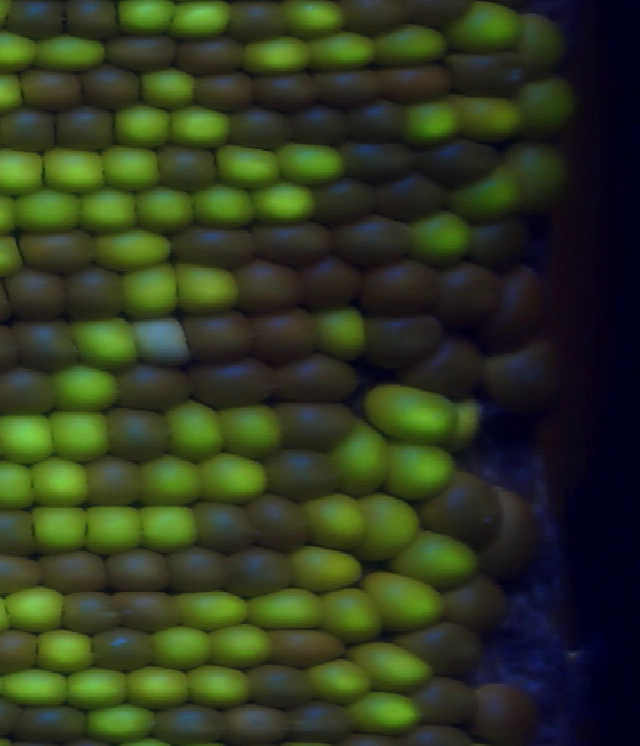fluorescent: (363, 383, 461, 444), (393, 531, 478, 587), (366, 570, 444, 630), (386, 440, 454, 499), (337, 420, 387, 493), (362, 494, 418, 558), (168, 401, 225, 463), (198, 452, 268, 502), (452, 164, 518, 217), (73, 319, 138, 372), (219, 404, 280, 459), (358, 642, 430, 688), (317, 588, 379, 641), (303, 496, 365, 549), (251, 588, 323, 632), (91, 232, 174, 270), (293, 545, 363, 589), (17, 187, 83, 233), (142, 452, 198, 506), (43, 146, 107, 193), (510, 146, 564, 201), (177, 591, 253, 630), (134, 187, 194, 236), (414, 212, 470, 264), (460, 98, 526, 142), (83, 506, 143, 554), (143, 504, 198, 556), (0, 417, 53, 470), (186, 664, 248, 709), (176, 263, 235, 310), (214, 144, 283, 184), (520, 78, 573, 130), (114, 104, 175, 149), (457, 4, 518, 49), (78, 187, 135, 235), (210, 624, 272, 667), (374, 26, 448, 62), (121, 265, 174, 315), (138, 317, 192, 365), (318, 307, 365, 362), (56, 368, 116, 411), (153, 625, 213, 668), (274, 142, 338, 182), (35, 505, 88, 553), (53, 411, 102, 462), (37, 459, 89, 507), (522, 14, 565, 72), (310, 659, 365, 704), (194, 185, 254, 226), (128, 667, 186, 709), (241, 38, 310, 73), (0, 147, 49, 195), (70, 666, 127, 707), (351, 692, 417, 727), (309, 32, 373, 68), (254, 181, 316, 218), (143, 66, 196, 109), (8, 590, 61, 633), (39, 629, 92, 672), (37, 36, 104, 70), (407, 102, 460, 144), (172, 1, 236, 35), (1, 670, 69, 701), (118, 2, 175, 37), (90, 706, 153, 737), (294, 2, 345, 37), (0, 462, 37, 507), (0, 33, 38, 72), (175, 105, 206, 147)
nonfluorescent: (420, 473, 502, 542), (476, 487, 532, 583), (364, 310, 451, 367), (401, 343, 488, 398), (358, 262, 442, 318), (485, 341, 552, 405), (188, 358, 274, 407), (495, 274, 548, 352), (415, 138, 500, 186), (395, 622, 478, 671), (279, 349, 353, 402), (264, 450, 337, 503), (168, 225, 255, 269), (116, 362, 194, 410), (280, 399, 352, 451), (103, 404, 168, 459), (476, 682, 534, 742), (416, 673, 479, 727), (338, 218, 410, 265), (238, 265, 303, 317), (192, 500, 257, 552), (451, 52, 526, 97), (250, 496, 308, 552), (445, 579, 504, 634), (21, 229, 96, 272), (250, 315, 318, 362), (380, 175, 451, 220), (9, 267, 68, 321), (64, 265, 124, 318), (255, 220, 331, 261), (13, 705, 91, 744), (18, 323, 80, 372), (272, 629, 346, 670), (465, 228, 533, 272), (232, 547, 293, 596), (165, 547, 232, 591), (23, 68, 89, 112), (59, 589, 123, 634), (192, 71, 255, 116), (318, 179, 378, 226), (303, 257, 359, 307), (108, 548, 170, 593), (288, 107, 355, 148), (443, 267, 488, 327), (137, 319, 193, 367), (154, 146, 218, 188), (194, 317, 255, 361), (292, 700, 350, 746), (91, 627, 153, 670), (155, 704, 223, 742), (246, 664, 306, 707), (123, 588, 180, 633), (111, 32, 178, 70), (84, 459, 138, 506), (0, 111, 59, 154), (59, 106, 114, 152), (351, 101, 409, 144), (4, 1, 68, 39), (228, 108, 292, 146), (48, 552, 108, 592), (86, 67, 143, 109), (383, 68, 453, 102), (348, 143, 415, 178), (223, 707, 288, 743), (255, 70, 318, 107), (174, 38, 244, 71), (318, 72, 383, 107), (0, 370, 48, 416), (64, 2, 119, 41), (225, 6, 283, 39), (0, 553, 44, 596), (0, 507, 38, 555), (0, 625, 35, 674)
